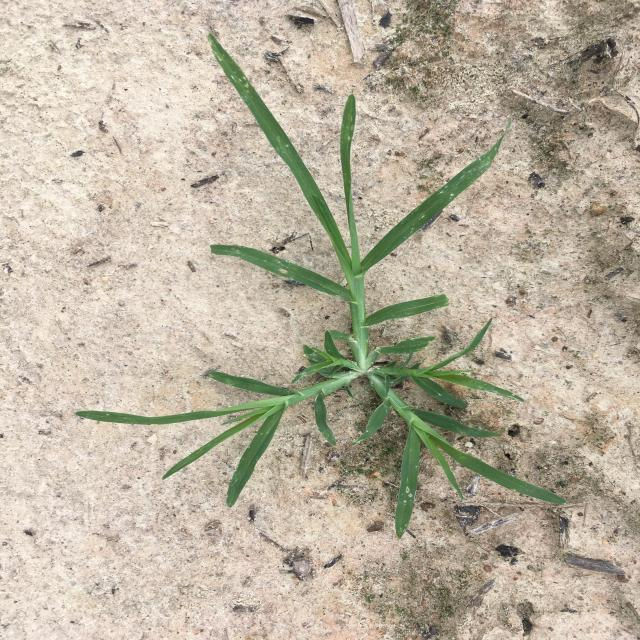Goosegrass: (76, 34, 566, 538)
